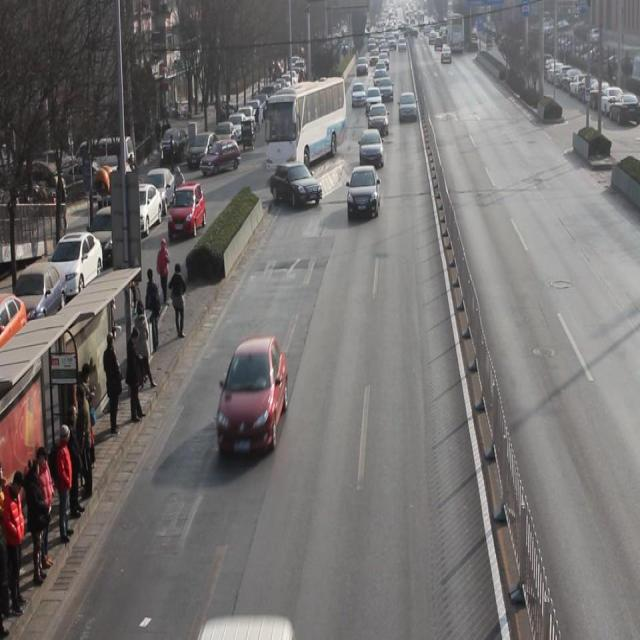car: (218, 339, 288, 459), (270, 161, 323, 209), (346, 164, 381, 221), (359, 128, 384, 169), (367, 103, 389, 138), (398, 92, 419, 124)
van: (265, 80, 348, 170)
